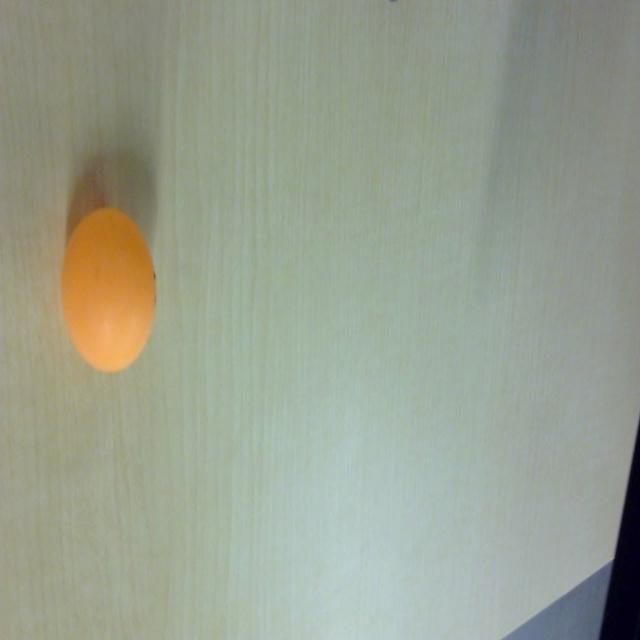ball: (60, 205, 158, 376)
